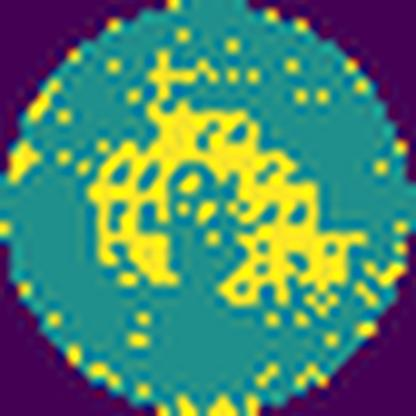Donut: (85, 98, 372, 316)
